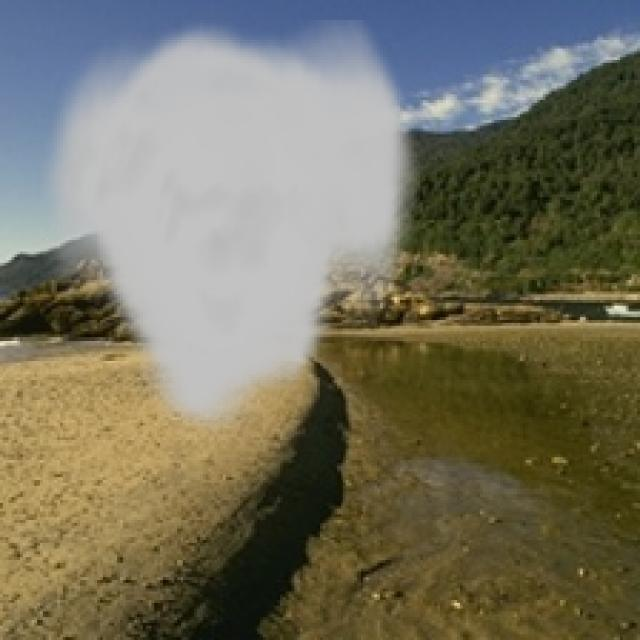smoke: (34, 20, 420, 437)
